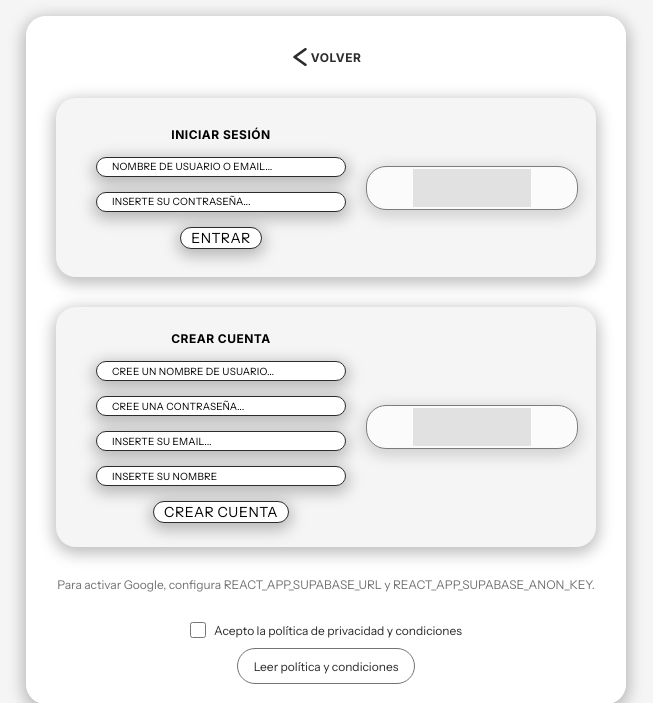
Test case: inicia sesión y muestra la cuenta recibida del backend
Click the checkbox labelled "Acepto la política de privacidad y condiciones" at (198, 630), box [190,622,206,638]
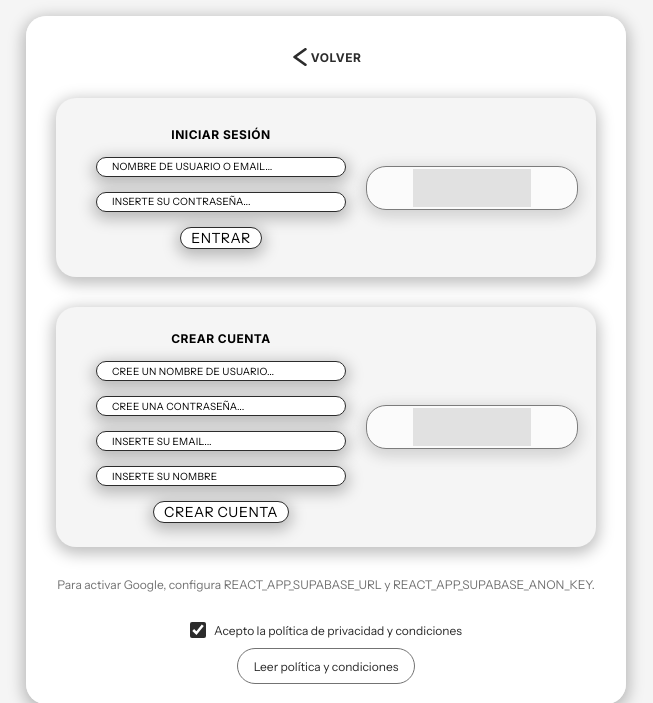
Type "ana" into the field with placeholder "NOMBRE DE USUARIO O EMAIL..." at (221, 166), box [96,156,346,176]
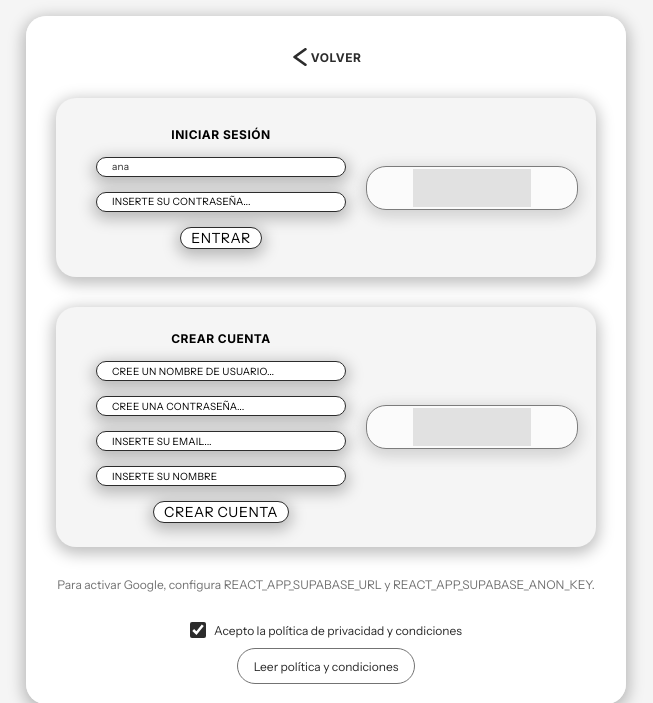
Type "password123" into the password field with placeholder "INSERTE SU CONTRASEÑA..." at (221, 202), box [96,192,346,212]
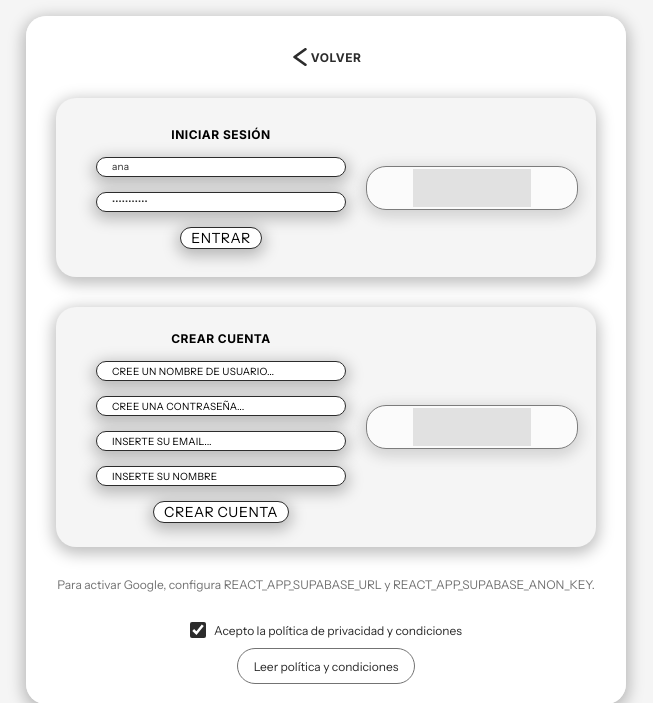
Click the button "ENTRAR" at (221, 238), box [180,226,262,248]
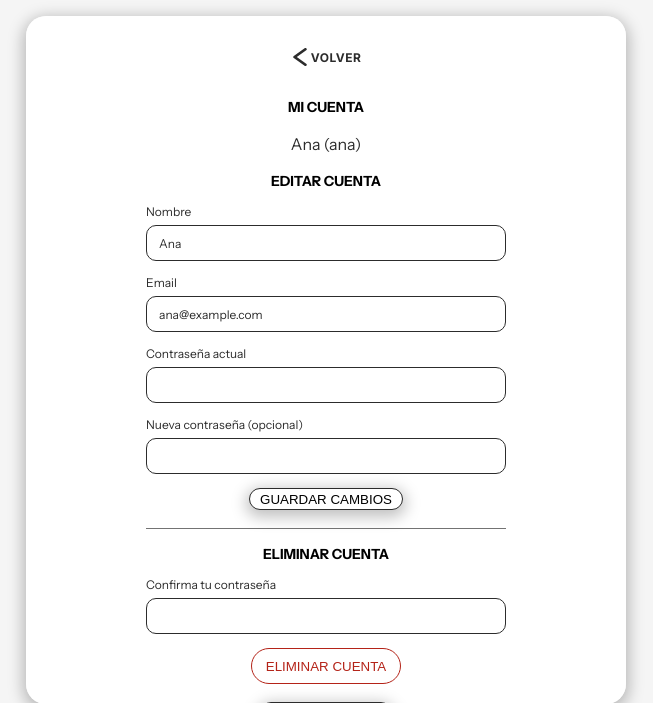
Expected: the heading "MI CUENTA" is shown, [288,98,364,116]
Expected: the text "Ana (ana)" is shown, [291,134,361,154]
